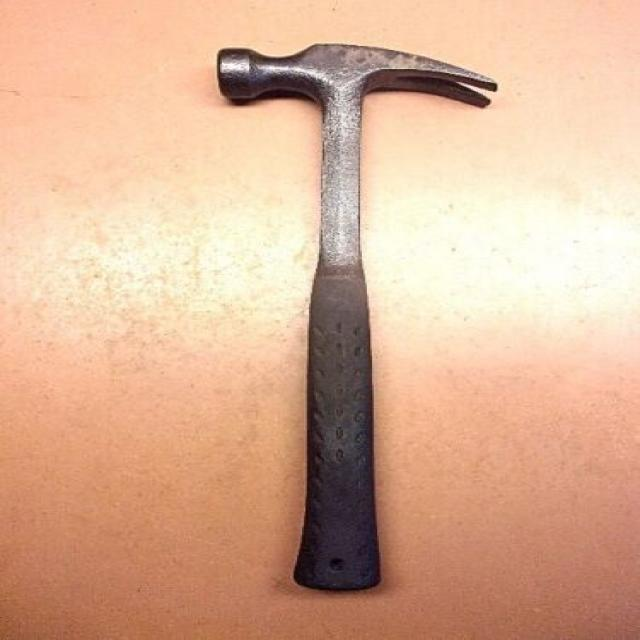hammer: (209, 36, 506, 598)
